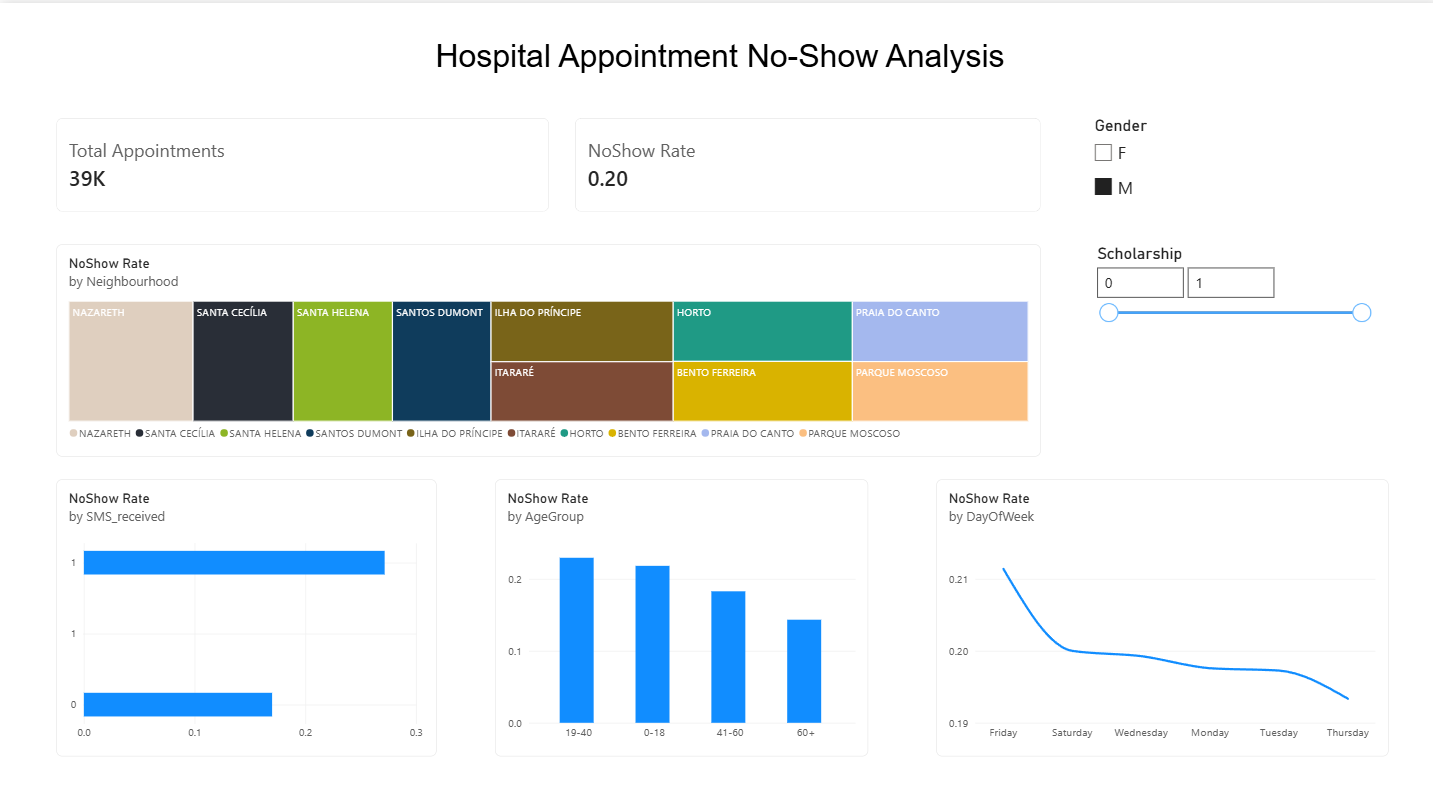

This screenshot's page, from the dashboard's own definition file:
{"tool":"powerbi","page":{"name":"Page 1","canvas":[1920,1080],"ordinal":0},"visuals":[{"type":"cardVisual","fields":{"Data":["cleaned_appointments.Total Appointments"]},"box":[75.4,153,657.7,125.6],"z":0},{"type":"cardVisual","fields":{"Data":["cleaned_appointments.NoShow Rate"]},"box":[767.3,153,621.1,125.6],"z":1000},{"type":"clusteredBarChart","fields":{"Category":["cleaned_appointments.SMS_received"],"Y":["cleaned_appointments.NoShow Rate"]},"box":[75.4,634.8,506.9,369.9],"z":2000},{"type":"clusteredColumnChart","fields":{"Category":["cleaned_appointments.AgeGroup"],"Y":["cleaned_appointments.NoShow Rate"]},"box":[659.9,634.8,497.8,369.9],"z":3000},{"type":"lineChart","fields":{"Category":["cleaned_appointments.DayOfWeek"],"Y":["cleaned_appointments.NoShow Rate"]},"box":[1249.1,634.8,602.9,369.9],"z":4000},{"type":"treemap","fields":{"Group":["cleaned_appointments.Neighbourhood"],"Values":["cleaned_appointments.NoShow Rate"]},"box":[75.4,322,1313,283.2],"z":5000},{"type":"slicer","fields":{"Values":["cleaned_appointments.Gender"]},"box":[1452.3,150.7,376.8,171.3],"z":6000},{"type":"slicer","fields":{"Values":["cleaned_appointments.Scholarship"]},"box":[1454.6,322,376.8,283.2],"z":7000},{"type":"textbox","box":[0,46.7,1920,103.3],"z":8000}]}

Visuals, with their boxes in screenshot pixels (x1, y1, x2, y2), scaled from the page's 1920x1080 canvas onto the 1433x795 screenshot:
cardVisual - cleaned_appointments.Total Appointments: x1=56 y1=113 x2=547 y2=205
cardVisual - cleaned_appointments.NoShow Rate: x1=573 y1=113 x2=1036 y2=205
clusteredBarChart - cleaned_appointments.SMS_received x cleaned_appointments.NoShow Rate: x1=56 y1=467 x2=435 y2=740
clusteredColumnChart - cleaned_appointments.AgeGroup x cleaned_appointments.NoShow Rate: x1=493 y1=467 x2=864 y2=740
lineChart - cleaned_appointments.DayOfWeek x cleaned_appointments.NoShow Rate: x1=932 y1=467 x2=1382 y2=740
treemap - cleaned_appointments.Neighbourhood x cleaned_appointments.NoShow Rate: x1=56 y1=237 x2=1036 y2=445
slicer - cleaned_appointments.Gender: x1=1084 y1=111 x2=1365 y2=237
slicer - cleaned_appointments.Scholarship: x1=1086 y1=237 x2=1367 y2=445
textbox: x1=0 y1=34 x2=1432 y2=110
